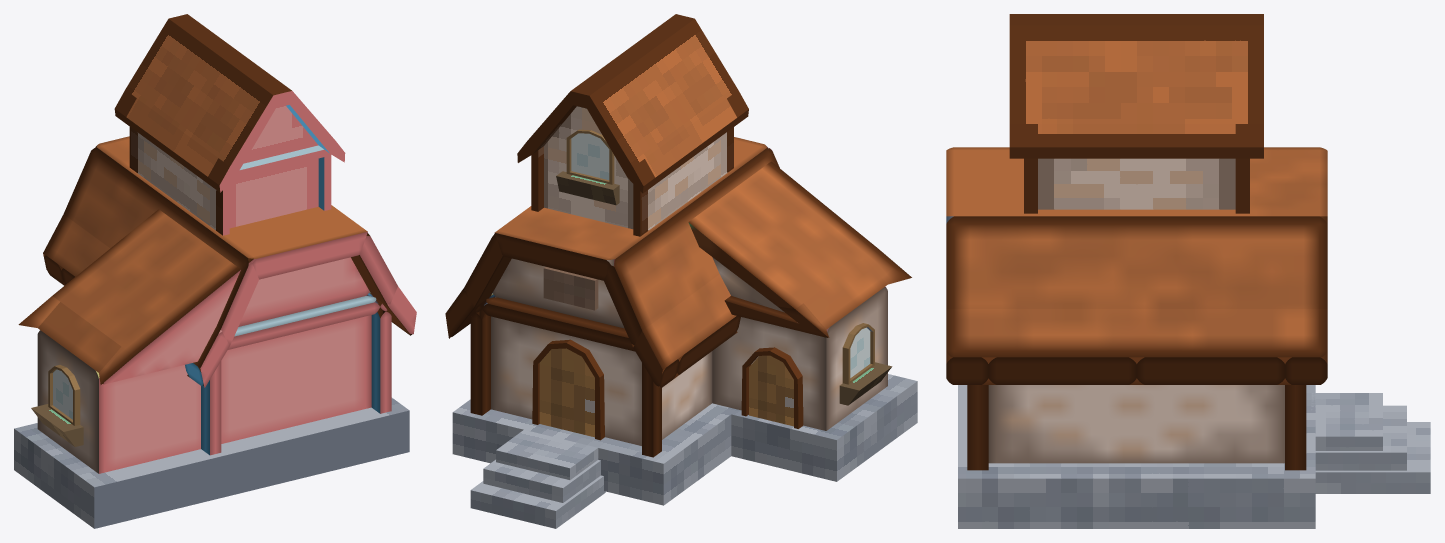
File: house6.fbx
3 views of the same model, side by side, from view 1: azimuth 30°, elevation 25°; view 2: azimuth 150°, elevation 25°; view 3: azimuth 270°, elevation 25° (orthographic). The views are drawn at different scales.
Visible parts, largest first — view 1: main house, top level, base, attic window, perch; view 2: main house, top level, base, main door, cube, cube_2, main door_1, cube_1, attic window_1, doorfram, sign, attic window (+3 smaller); view 3: main house, top level, base, cube_2, cube, cube_1.
Part boxes in pixels (bbox=[...]): main house: bbox=[18, 136, 416, 473]; top level: bbox=[114, 14, 345, 235]; base: bbox=[14, 397, 409, 528]; attic window: bbox=[48, 365, 80, 425]; perch: bbox=[31, 404, 83, 446]; main house: bbox=[445, 137, 911, 457]; top level: bbox=[517, 14, 748, 236]; base: bbox=[452, 374, 917, 505]; main door: bbox=[539, 348, 594, 437]; cube: bbox=[470, 475, 605, 528]; cube_2: bbox=[496, 430, 598, 479]; main door_1: bbox=[749, 355, 793, 426]; cube_1: bbox=[483, 459, 600, 502]; attic window_1: bbox=[566, 129, 614, 184]; doorfram: bbox=[532, 339, 604, 440]; sign: bbox=[543, 267, 598, 310]; attic window: bbox=[842, 323, 874, 384]; main house: bbox=[946, 147, 1327, 470]; top level: bbox=[1009, 14, 1263, 213]; base: bbox=[958, 385, 1315, 528]; cube_2: bbox=[1311, 393, 1382, 450]; cube: bbox=[1315, 422, 1430, 493]; cube_1: bbox=[1315, 405, 1406, 470].
Size of the model in its own units: 176 by 196 by 191.
Materials: 7 (7 with a texture image).
